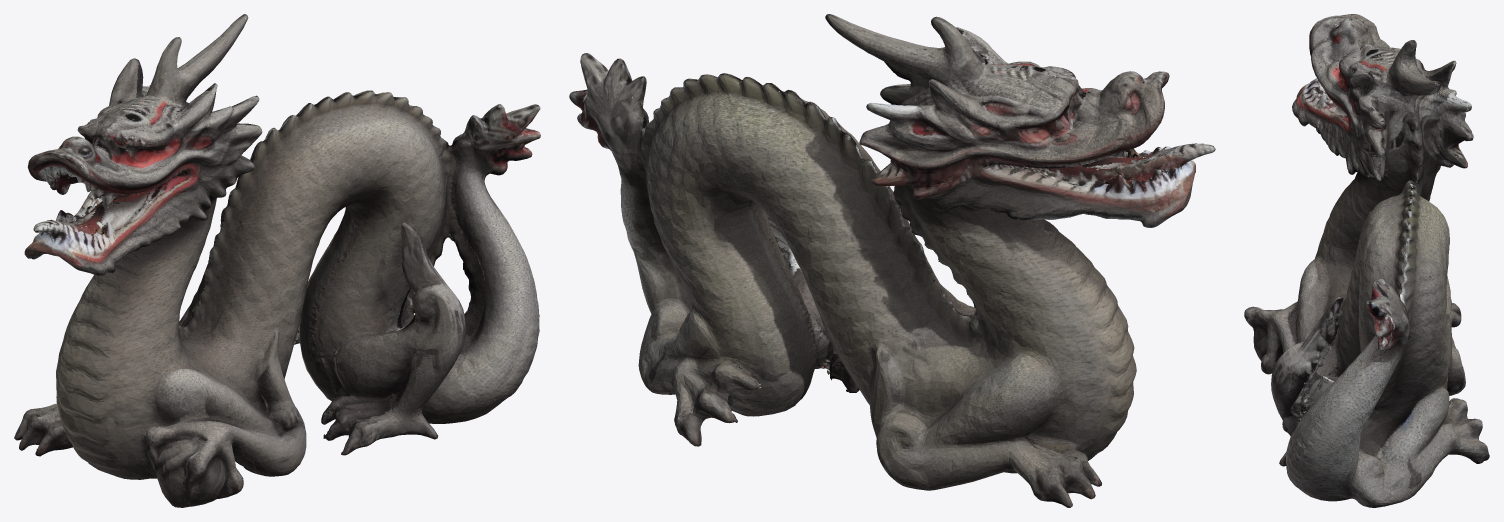
File: textured_syncmvd.glb
The picture shows the model from 3 angles, left to right: view 1: azimuth 30°, elevation 25°; view 2: azimuth 150°, elevation 25°; view 3: azimuth 270°, elevation 25°; orthographic projection. The views are drawn at different scales.
Parts seen in each view (by area): view 1: Node; view 2: Node; view 3: Node.
Boxes of the visible parts, left/top/right/bottom form: Node: left=14, top=14, right=540, bottom=507; Node: left=569, top=14, right=1215, bottom=507; Node: left=1244, top=14, right=1489, bottom=507.
Size of the model in its own units: 2 by 1.41 by 0.8946.
Materials: 1 (1 with a texture image).
